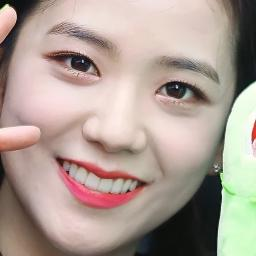face: (16, 0, 214, 244)
